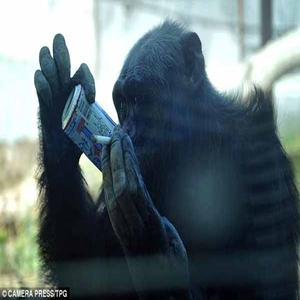cigarette: (90, 135, 115, 144)
